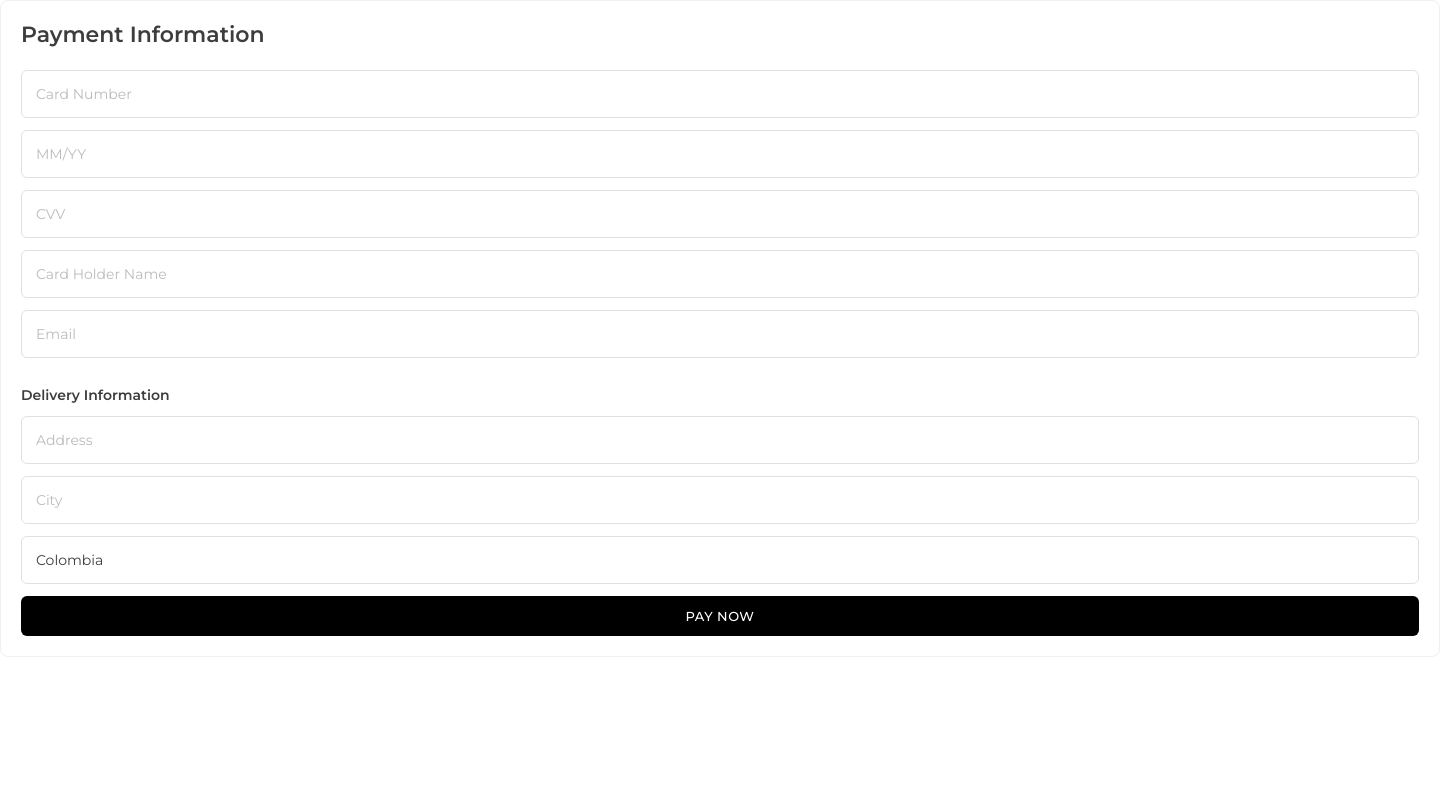
Test case: StepCardDelivery › shows validation errors on empty submit
Click the button "Pay Now": {"x": 720, "y": 616} [21,596,1419,636]
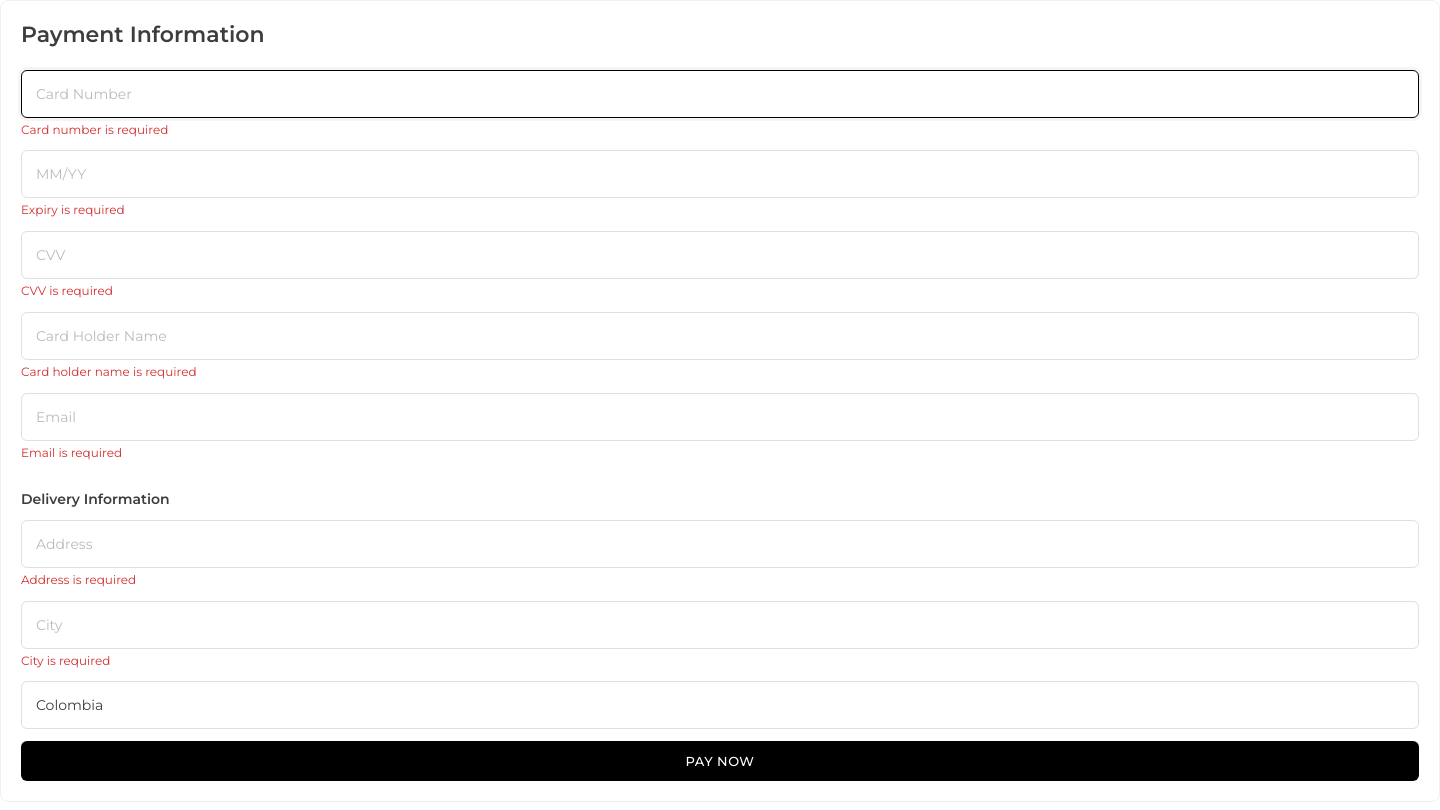
Expected: the text "Card number is required" is shown, [21,122,168,137]
